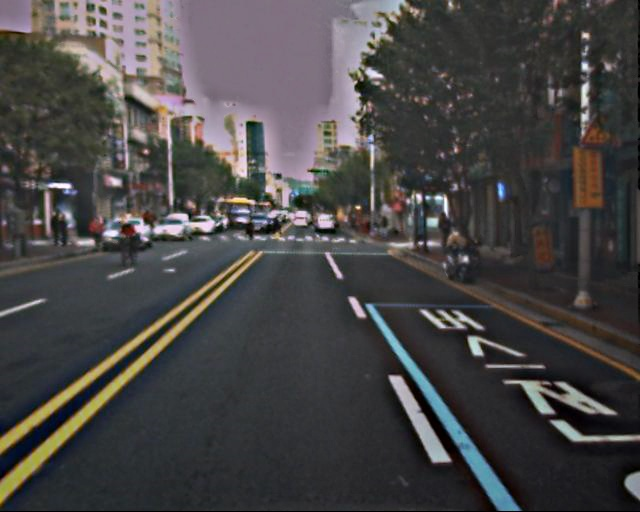person: (435, 212, 452, 254), (50, 213, 71, 247)
